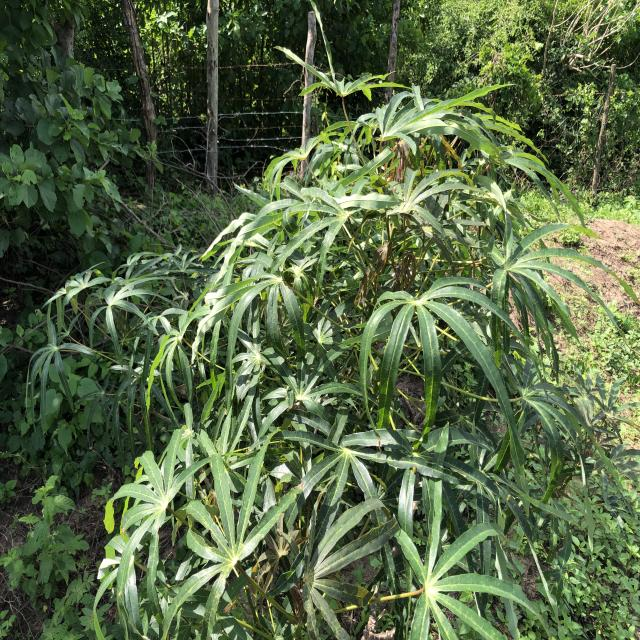Maleza: (0, 0, 124, 236), (3, 417, 93, 636), (528, 7, 634, 129)
Mosca: (501, 487, 510, 508), (483, 498, 494, 514), (409, 462, 419, 479), (516, 494, 526, 511)
